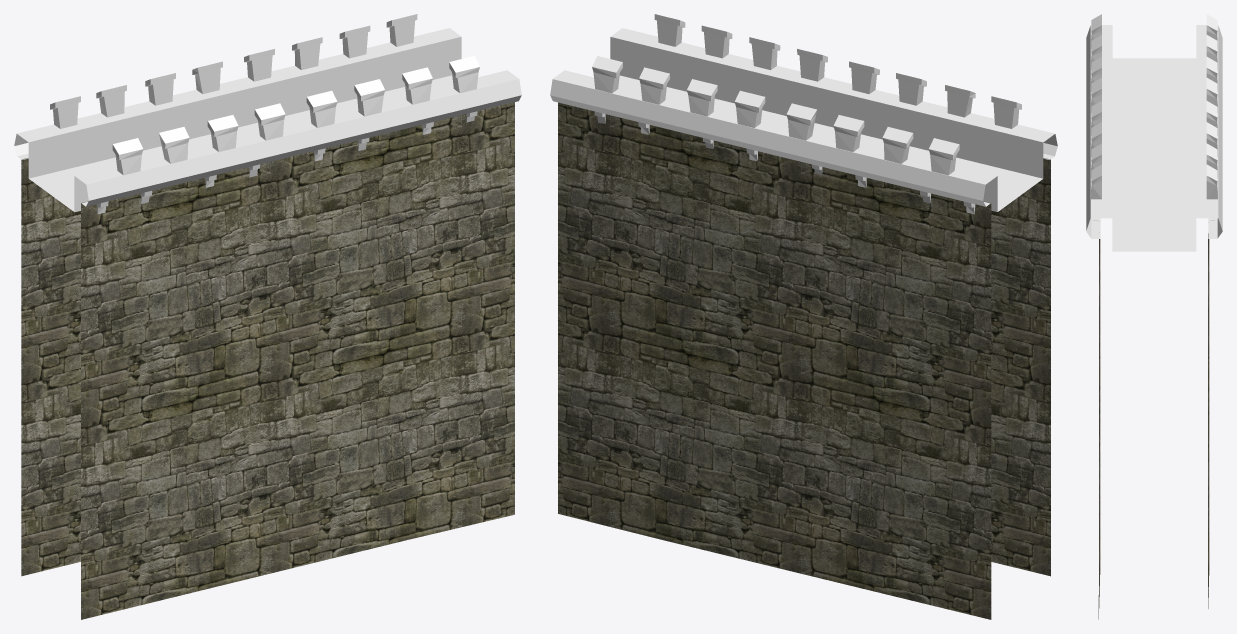
The model's file is wall1.fbx.
The picture shows the model from 3 angles, left to right: view 1: azimuth 30°, elevation 25°; view 2: azimuth 150°, elevation 25°; view 3: azimuth 270°, elevation 25°; orthographic projection. The views are drawn at different scales.
Visible parts, largest first — view 1: Default_Layer; view 2: Default_Layer; view 3: Default_Layer.
Boxes of the visible parts, box(x1,y1,x2,y2) form: Default_Layer: box(14, 14, 521, 619); Default_Layer: box(550, 14, 1057, 619); Default_Layer: box(1086, 14, 1222, 619).
Bounding box in the file's own units: 2038 × 2097 × 608.
